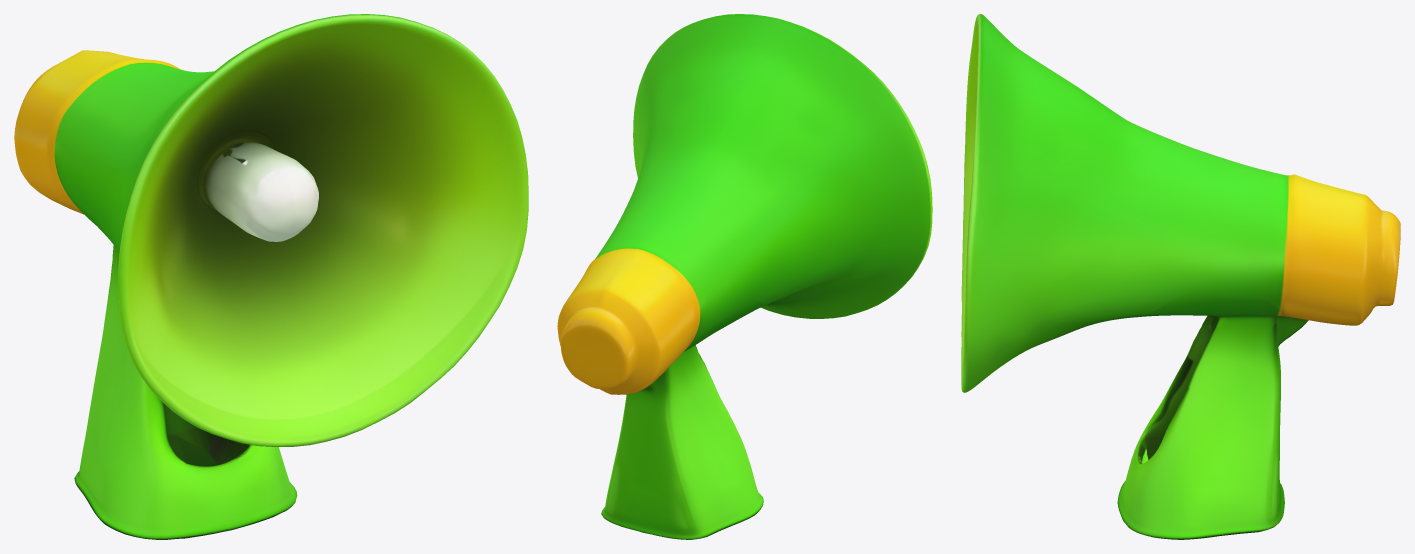
The model's file is base_basic_shaded_megafone.glb.
The picture shows the model from 3 angles, left to right: view 1: azimuth 30°, elevation 25°; view 2: azimuth 150°, elevation 25°; view 3: azimuth 270°, elevation 25°; orthographic projection. The views are drawn at different scales.
Parts seen in each view (by area): view 1: model; view 2: model; view 3: model.
Part boxes in pixels (bbox=[...]): model: bbox=[14, 14, 528, 539]; model: bbox=[557, 14, 932, 539]; model: bbox=[961, 14, 1400, 539].
Bounding box in the file's own units: 1.42 × 1.9 × 1.61.
1 material, 1 textured.
